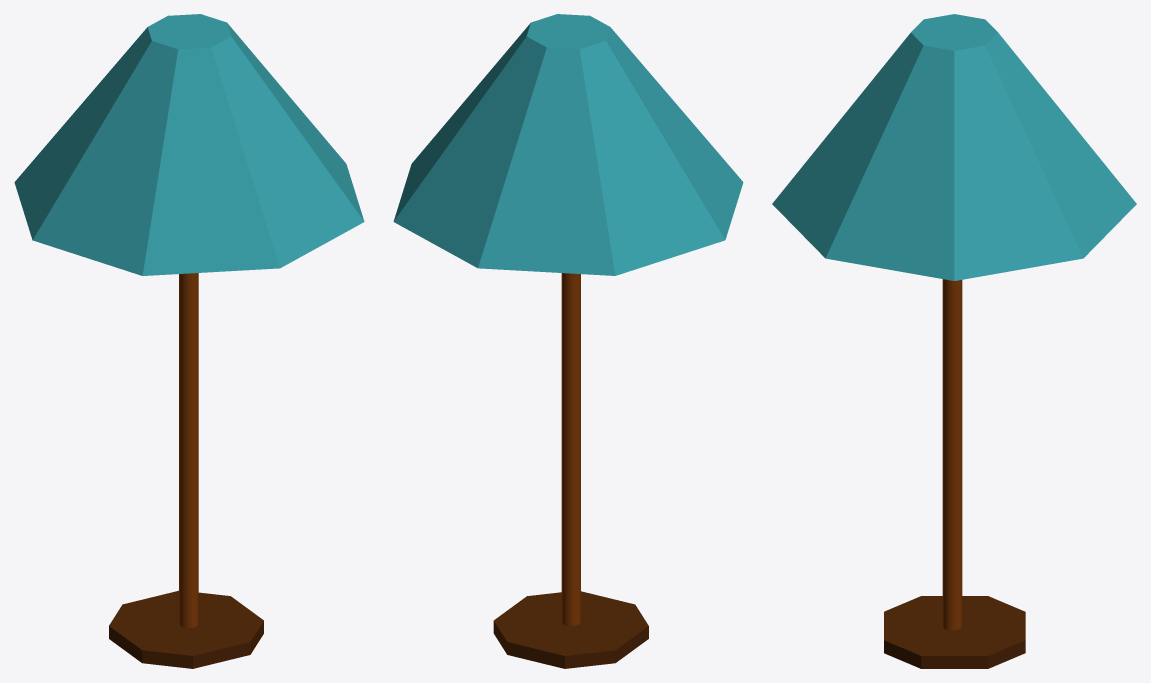
File: Lamp.fbx
The picture shows the model from 3 angles, left to right: view 1: azimuth 30°, elevation 25°; view 2: azimuth 150°, elevation 25°; view 3: azimuth 270°, elevation 25°; orthographic projection.
Visible parts, largest first — view 1: Lamp; view 2: Lamp; view 3: Lamp.
Part boxes in pixels (left/top/right/bottom): Lamp: left=14, top=14, right=364, bottom=668; Lamp: left=393, top=14, right=743, bottom=668; Lamp: left=772, top=14, right=1136, bottom=668.
Bounding box in the file's own units: 341 × 628 × 341.
